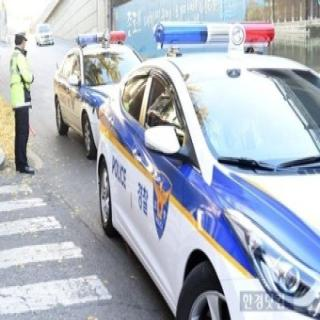Police_car: (92, 20, 320, 320), (53, 31, 147, 159)
